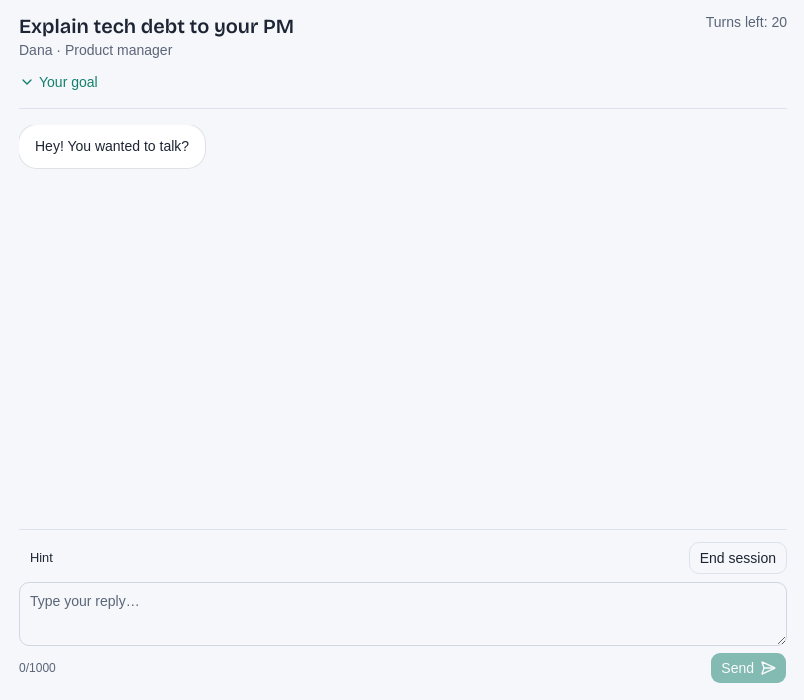
Test: SessionView › fills the composer when the hint's 'Use this' is clicked
Step 1. Click the button "Hint" → (41, 558), box [19,544,64,572]
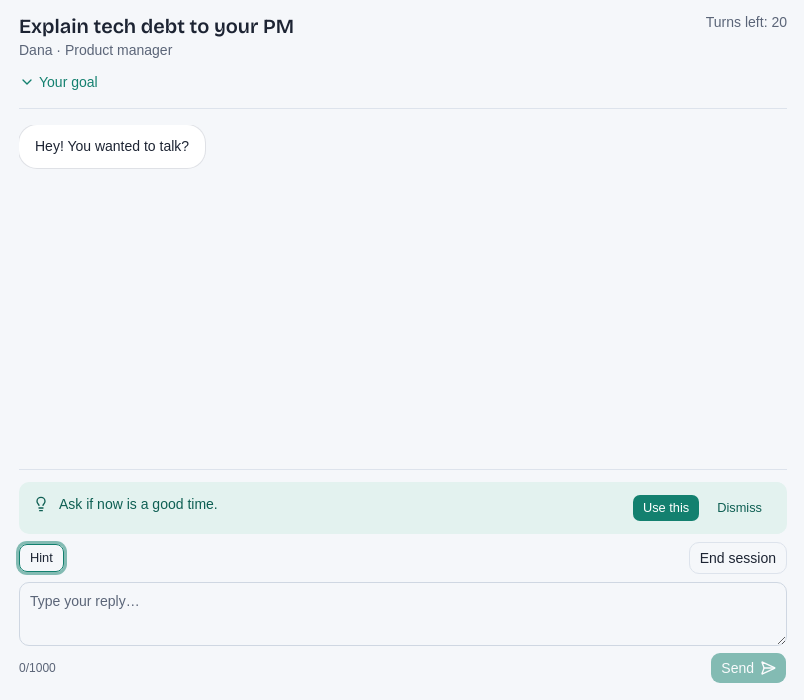
Step 2. Click the button "Use this" → (666, 508), box [632,494,700,522]
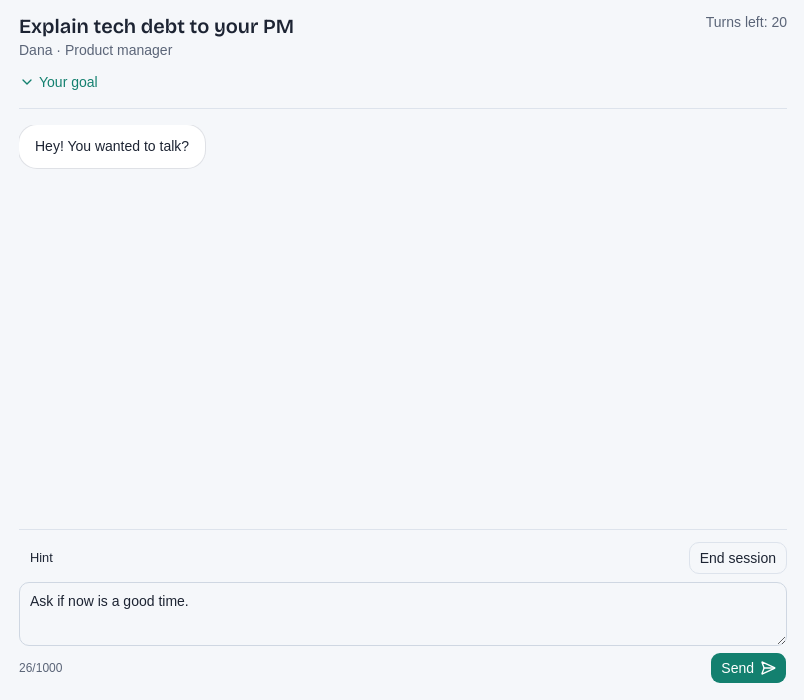
Expected: the text box named "Message" holds "Ask if now is a good time.", [19,582,787,646]
